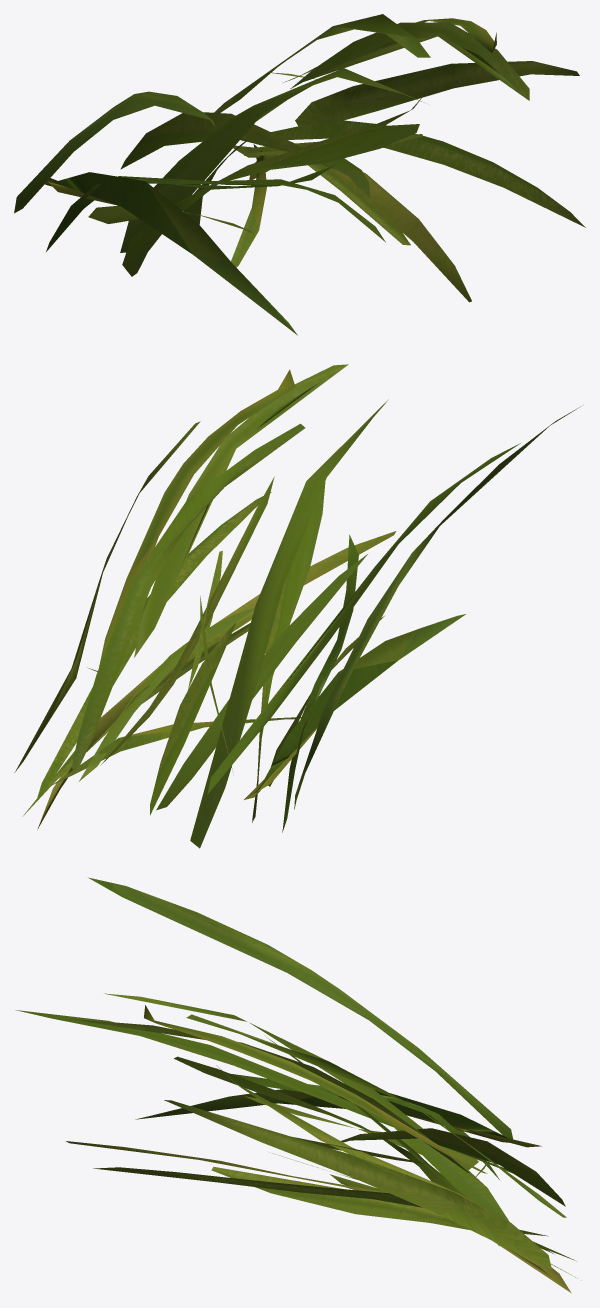
File: Tuft_Lawn_B.glb
The picture shows the model from 3 angles, top to bottom: view 1: azimuth 30°, elevation 25°; view 2: azimuth 150°, elevation 25°; view 3: azimuth 270°, elevation 25°; orthographic projection. The views are drawn at different scales.
Visible parts, largest first — view 1: Tuft_Lawn_B; view 2: Tuft_Lawn_B; view 3: Tuft_Lawn_B.
Part boxes in pixels (x1,y1,x2,y2): Tuft_Lawn_B: (14, 14, 585, 335); Tuft_Lawn_B: (14, 364, 581, 848); Tuft_Lawn_B: (15, 877, 577, 1292).
Size of the model in its own units: 0.0477 by 0.04 by 0.0714.
1 material, 1 textured.
